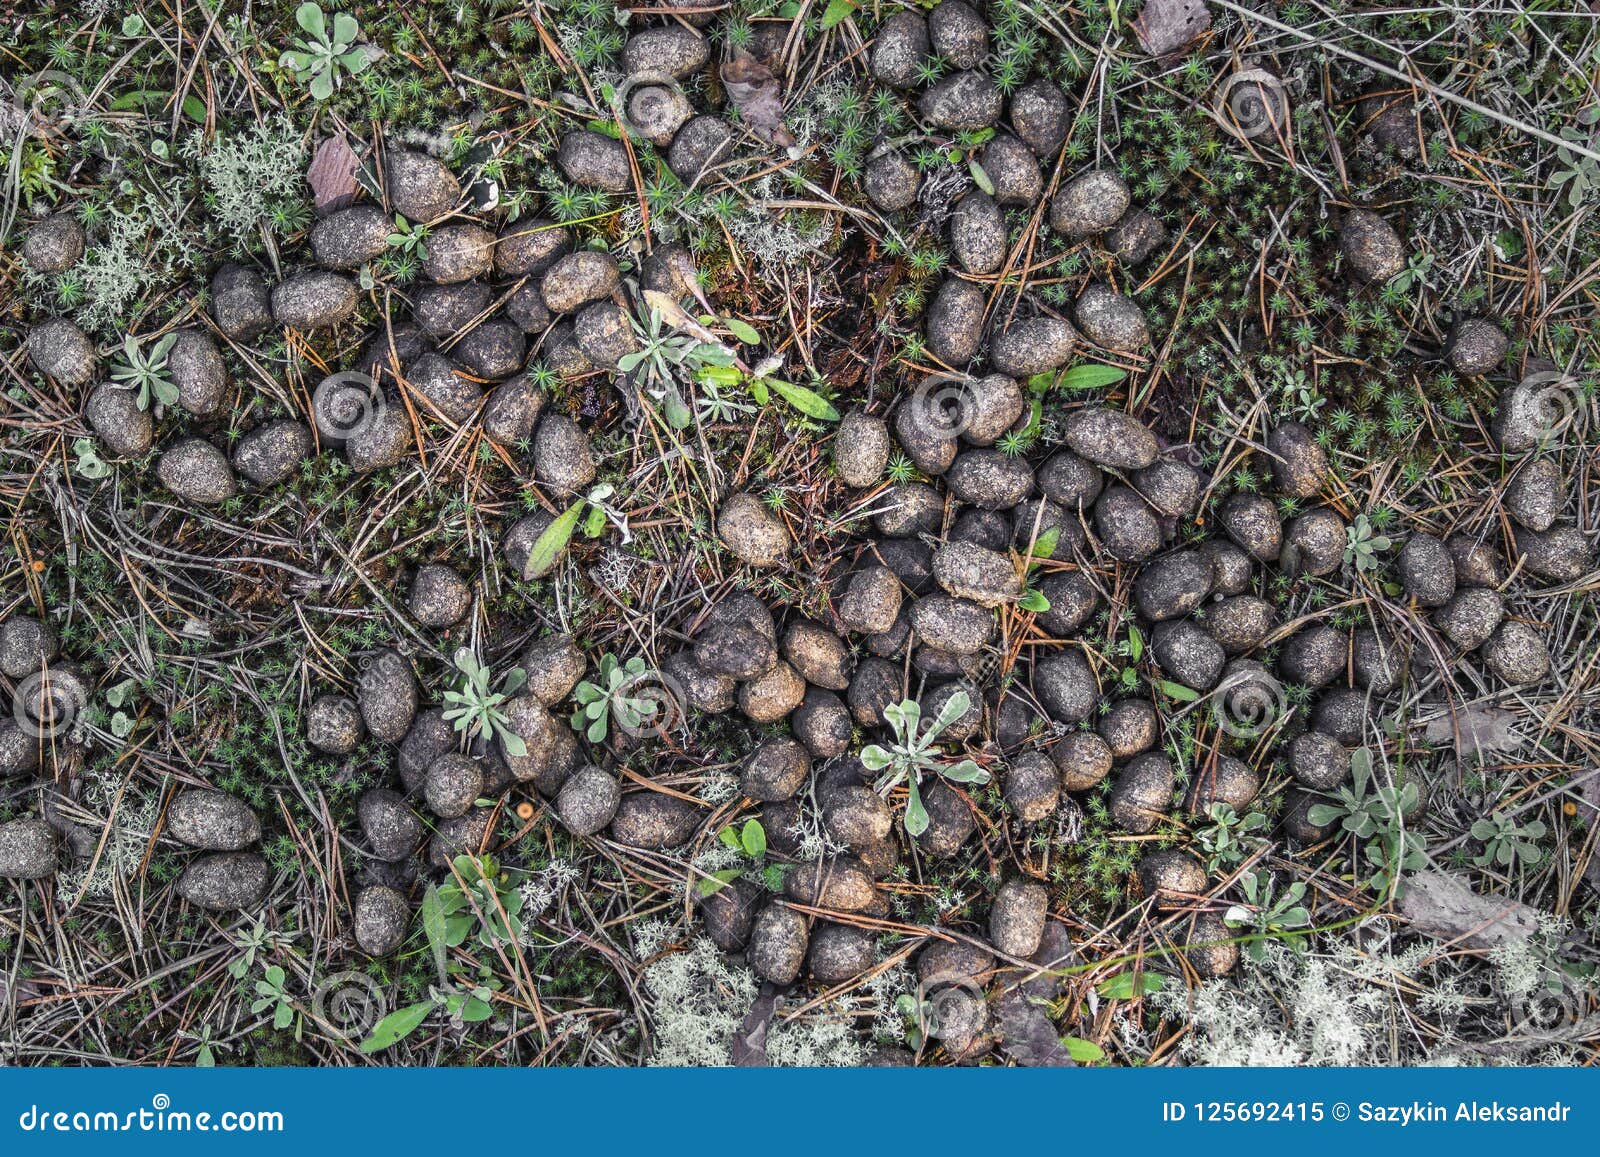Elk: (248, 222, 1263, 848)
